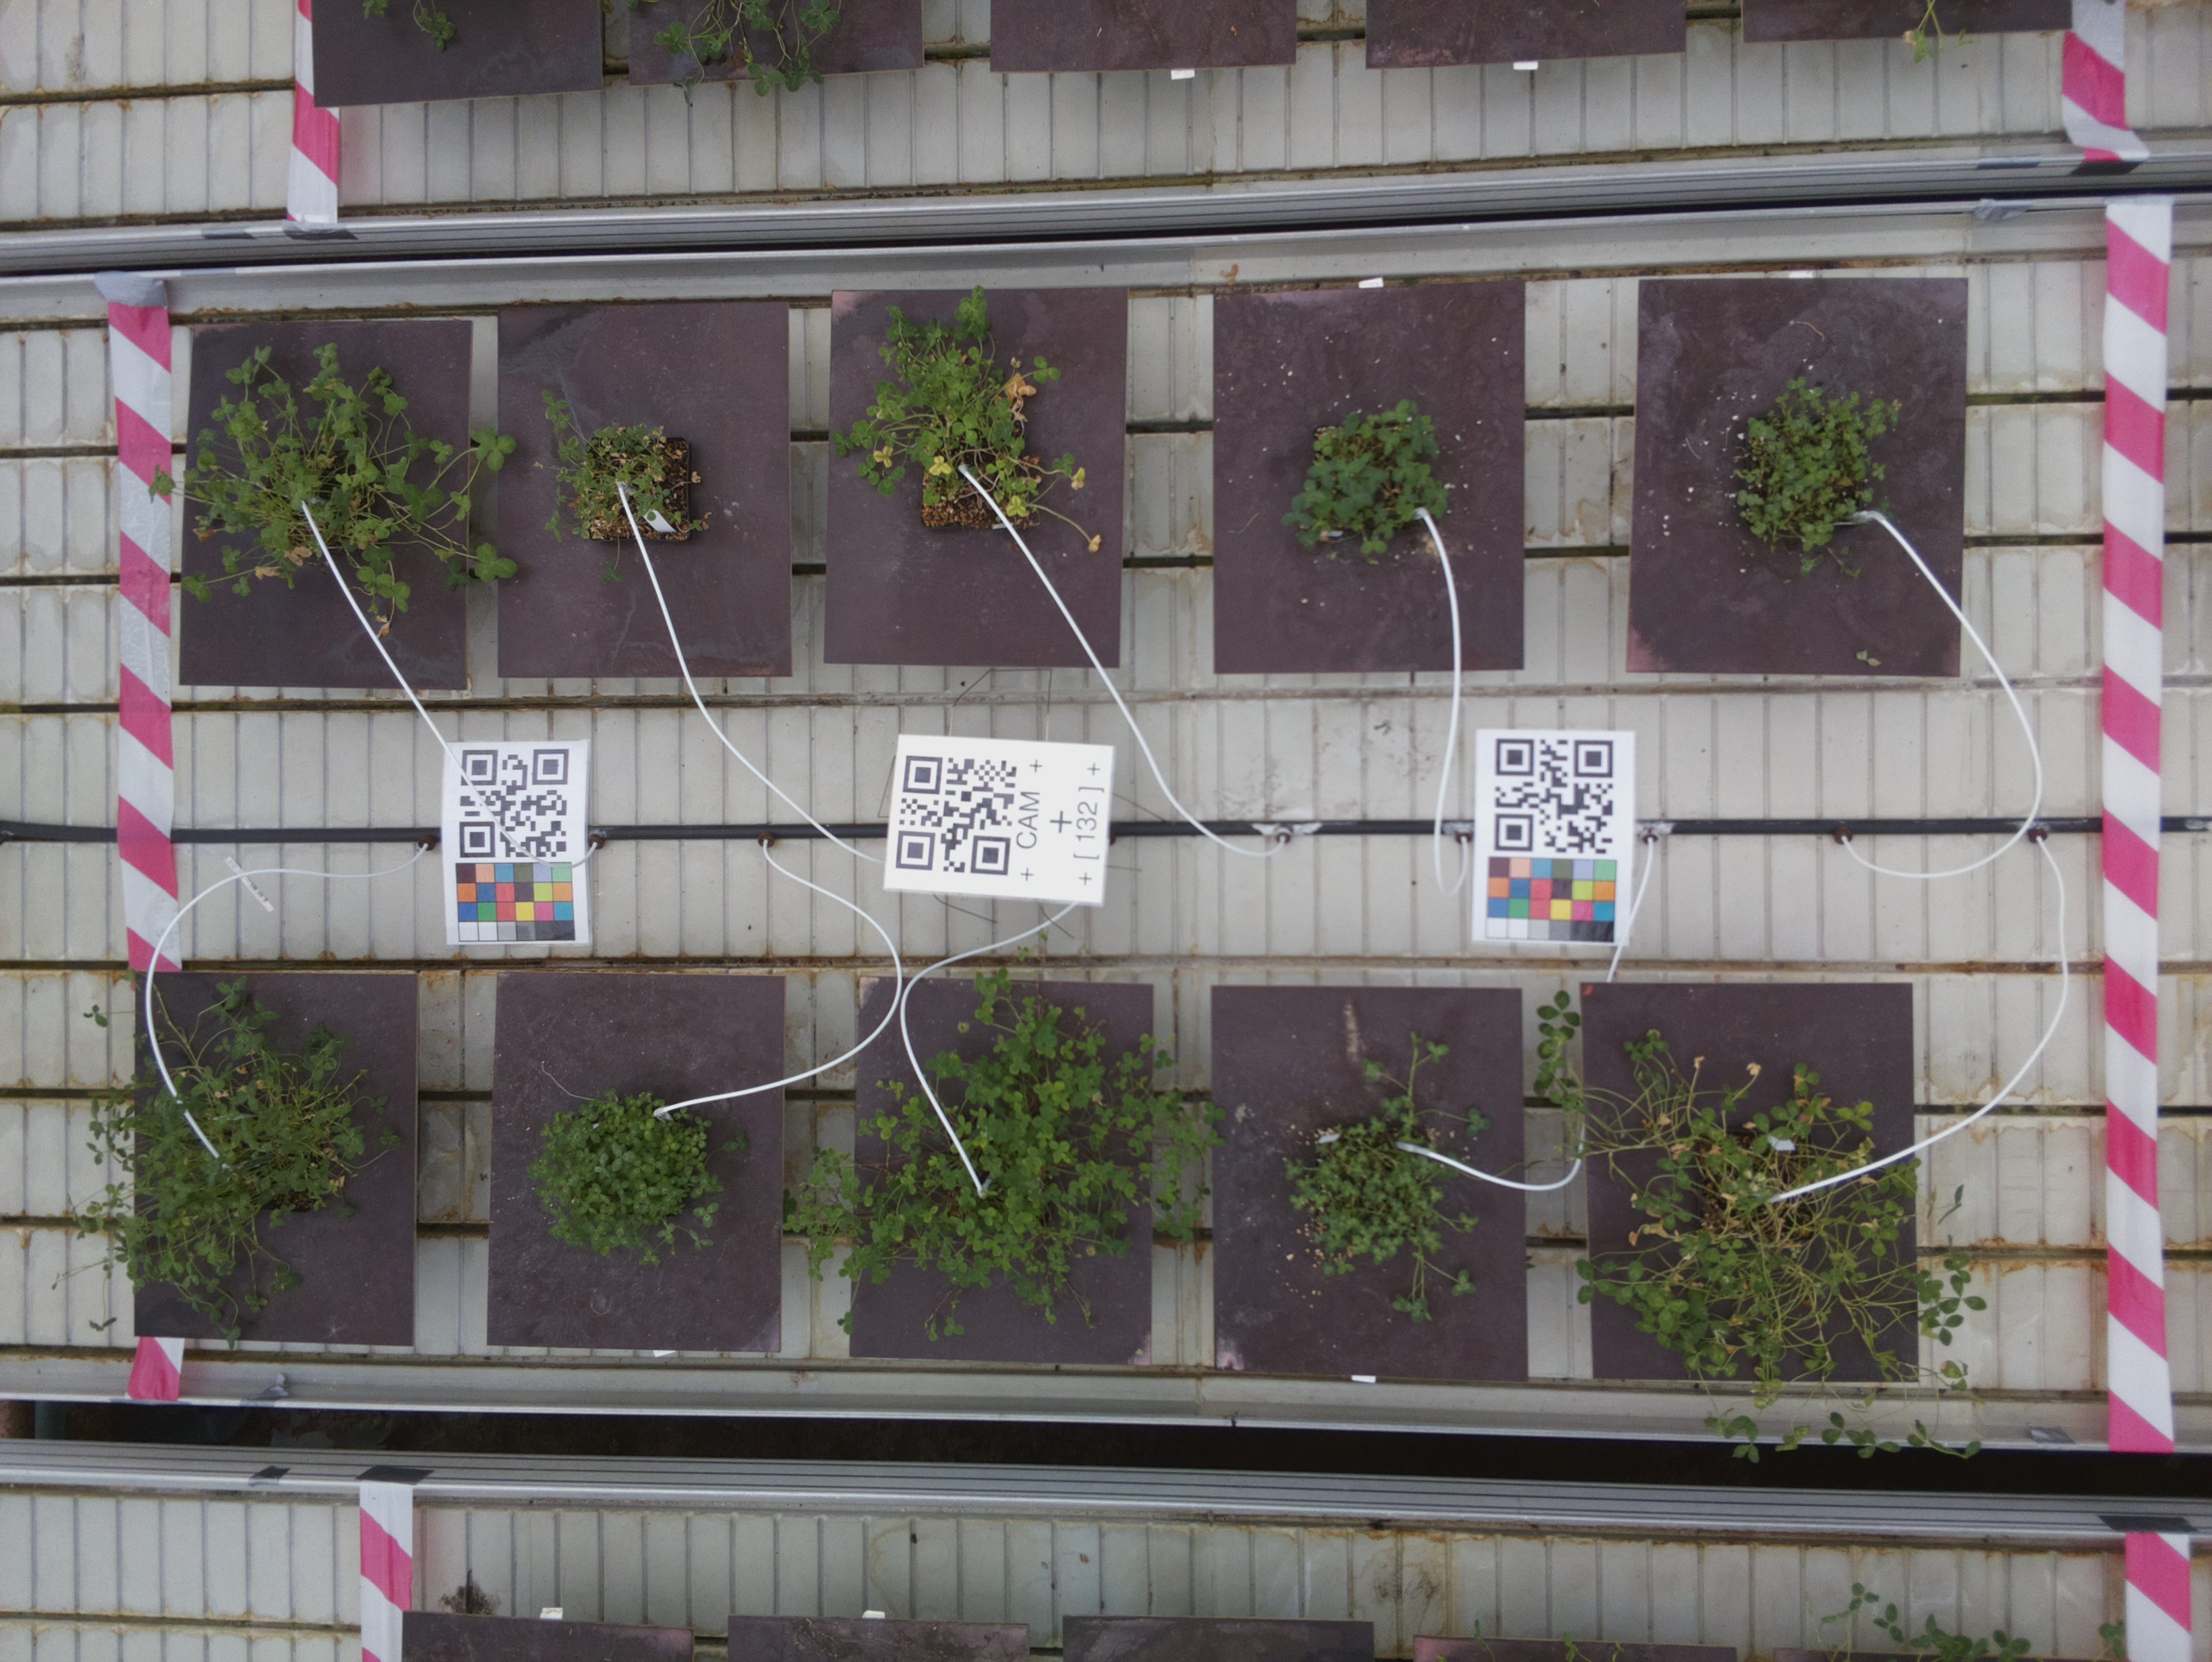POT: (1575, 981, 1926, 1381), (1636, 279, 1966, 679), (1208, 985, 1531, 1388), (850, 974, 1161, 1365), (489, 971, 796, 1365), (1210, 292, 1528, 670), (492, 306, 796, 681), (829, 288, 1126, 669), (178, 321, 478, 686), (124, 976, 419, 1343)
QRCODE: (883, 733, 1116, 911)
QRCOLOR: (1475, 723, 1636, 953), (442, 744, 588, 943)
